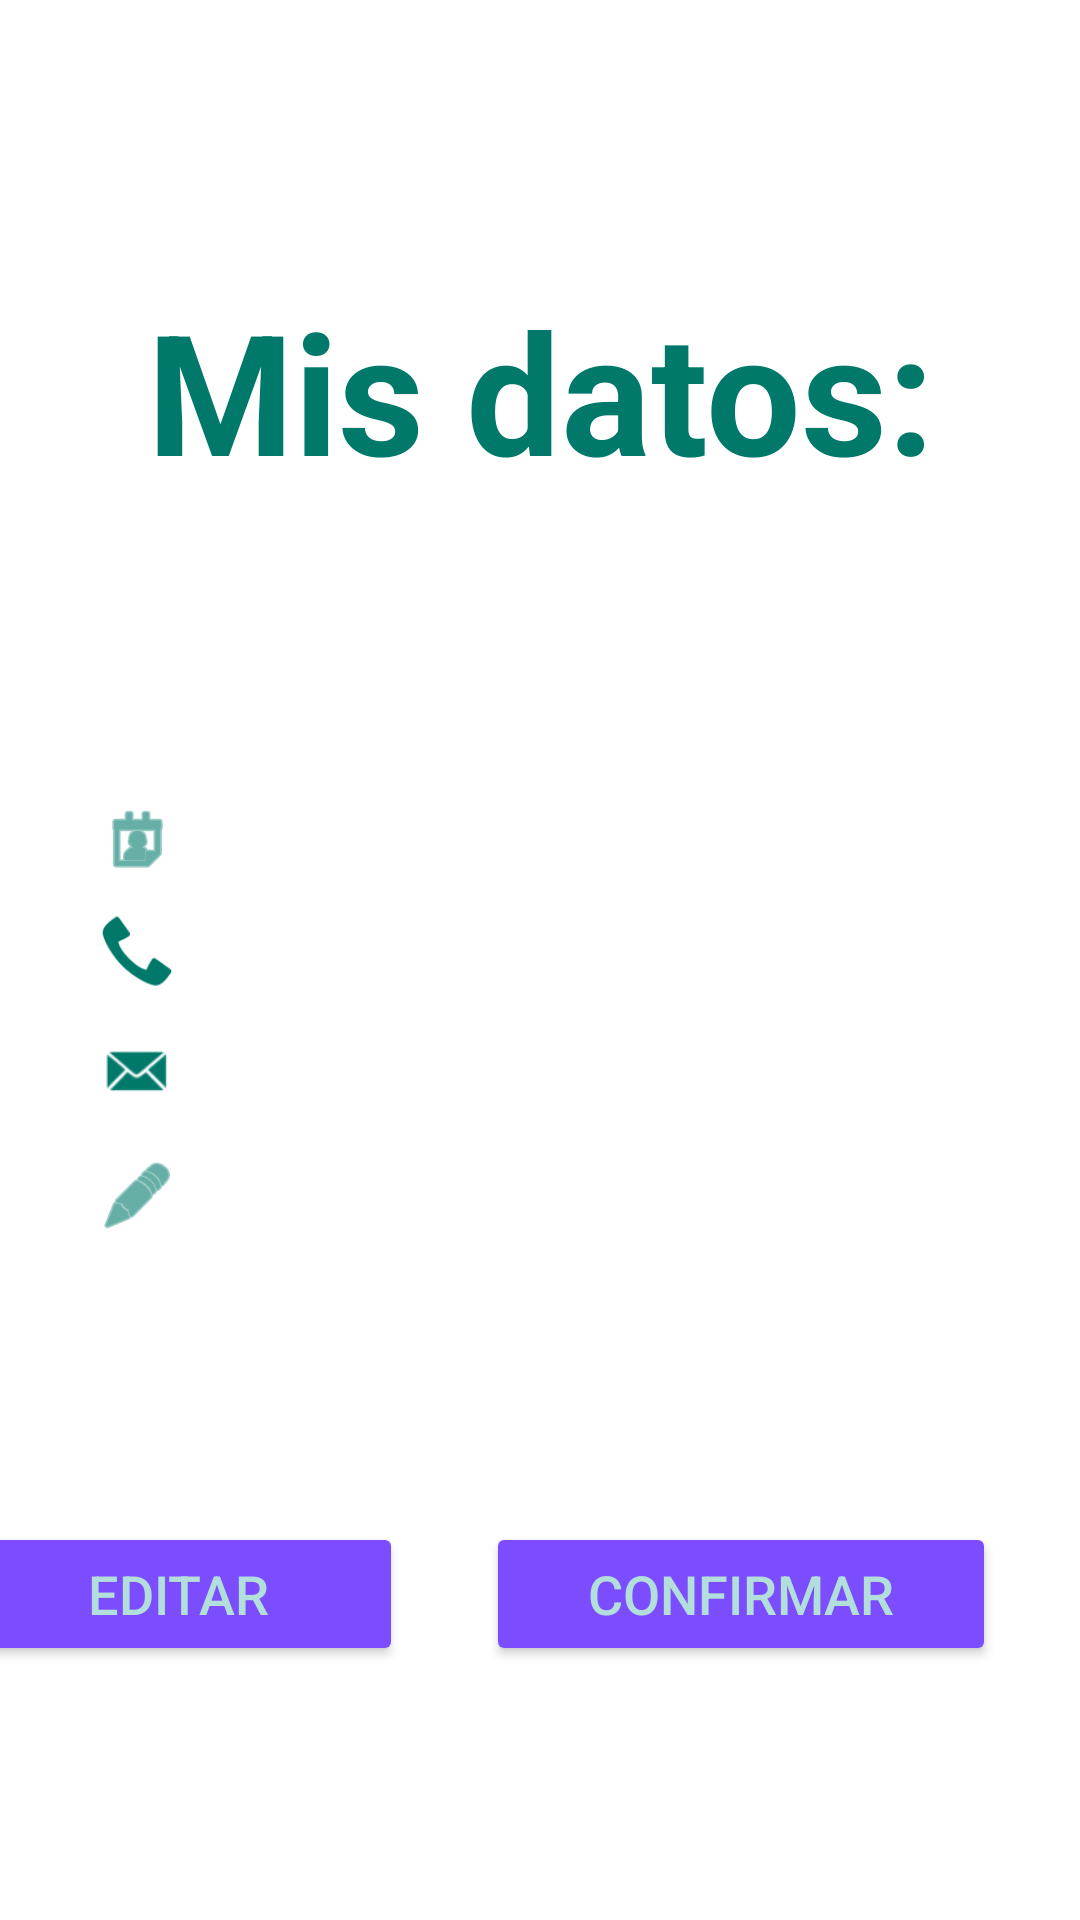

Screen size 1080 x 1920. Icon name, then its center in pixels as [x,y]:
calendar: [137,839]
edit: [137,1195]
phone call: [137,951]
sym action email: [136,1071]
